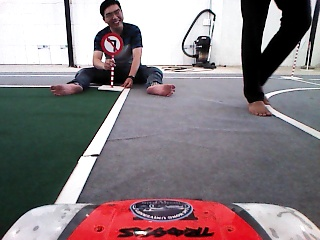ban: (100, 32, 124, 57)
